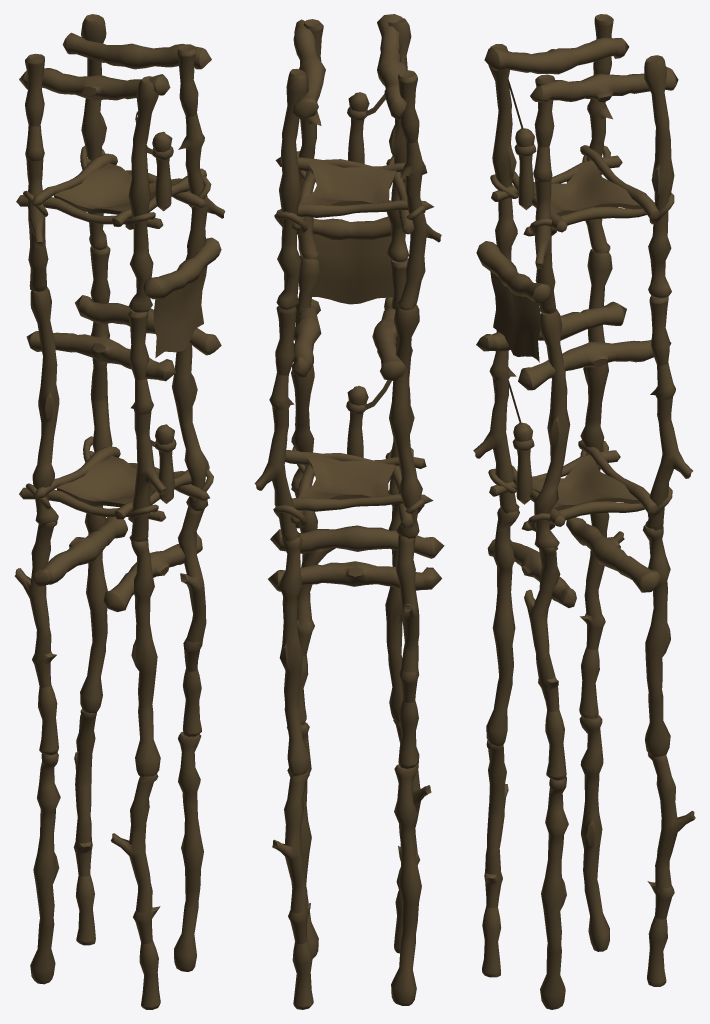
The model's file is Watchtower.fbx.
The picture shows the model from 3 angles, left to right: view 1: azimuth 30°, elevation 25°; view 2: azimuth 150°, elevation 25°; view 3: azimuth 270°, elevation 25°; orthographic projection.
Visible parts, largest first — view 1: watchtower_column_geo2, watchtower_column_geo, watchtower_column_geo3, watchtower_supports_geo, watchtower_column_geo1, tower_seat_geo, tower_seat_geo1, tower_banner_geo; view 2: watchtower_column_geo1, watchtower_column_geo, watchtower_supports_geo, tower_seat_geo1, tower_seat_geo, watchtower_column_geo3, tower_banner_geo, watchtower_column_geo2; view 3: watchtower_column_geo1, watchtower_column_geo3, watchtower_supports_geo, watchtower_column_geo2, watchtower_column_geo, tower_seat_geo, tower_seat_geo1, tower_banner_geo.
Boxes of the visible parts, x1=… form: watchtower_column_geo2: x1=111, y1=76, x2=165, y2=1009; watchtower_column_geo: x1=14, y1=53, x2=60, y2=984; watchtower_column_geo3: x1=172, y1=44, x2=225, y2=971; watchtower_supports_geo: x1=19, y1=32, x2=221, y2=611; watchtower_column_geo1: x1=73, y1=14, x2=112, y2=945; tower_seat_geo: x1=16, y1=111, x2=211, y2=229; tower_seat_geo1: x1=19, y1=424, x2=213, y2=522; tower_banner_geo: x1=143, y1=237, x2=221, y2=357; watchtower_column_geo1: x1=254, y1=69, x2=313, y2=1009; watchtower_column_geo: x1=389, y1=70, x2=441, y2=1005; watchtower_supports_geo: x1=268, y1=14, x2=444, y2=591; tower_seat_geo1: x1=273, y1=380, x2=433, y2=528; tower_seat_geo: x1=274, y1=55, x2=433, y2=234; watchtower_column_geo3: x1=287, y1=19, x2=335, y2=958; tower_banner_geo: x1=298, y1=216, x2=393, y2=304; watchtower_column_geo2: x1=385, y1=18, x2=431, y2=953; watchtower_column_geo1: x1=642, y1=55, x2=695, y2=986; watchtower_column_geo3: x1=524, y1=74, x2=570, y2=1009; watchtower_supports_geo: x1=476, y1=37, x2=678, y2=607; watchtower_column_geo2: x1=473, y1=44, x2=519, y2=977; watchtower_column_geo: x1=566, y1=14, x2=624, y2=951; tower_seat_geo: x1=490, y1=79, x2=674, y2=236; tower_seat_geo1: x1=488, y1=380, x2=672, y2=531; tower_banner_geo: x1=476, y1=241, x2=551, y2=362.
Bounding box in the file's own units: 4.18 × 21.22 × 4.6.
